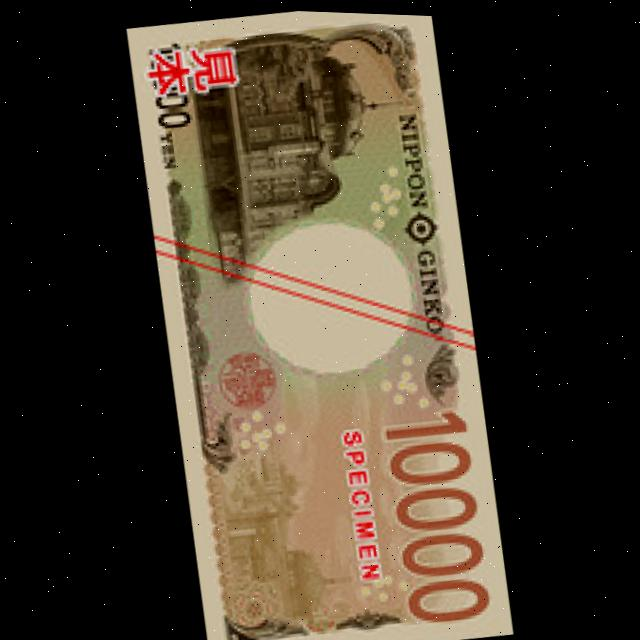banknote: (124, 4, 520, 640)
